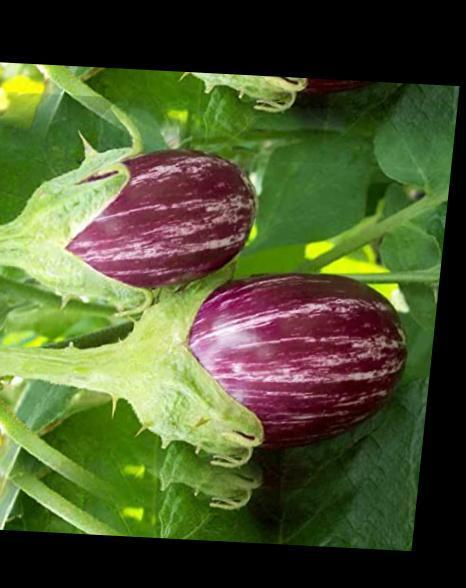eggplant: (94, 233, 426, 474), (0, 148, 265, 313)
